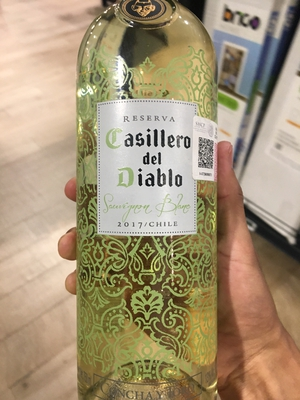casillero del diablo sauvignon blanc: (67, 7, 236, 400)
